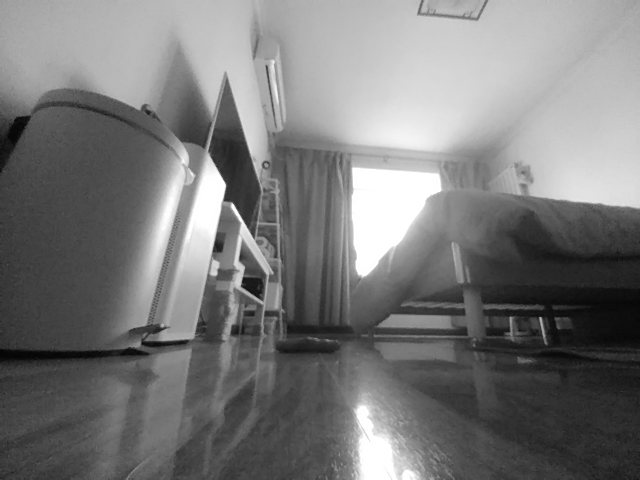carpet: (475, 341, 640, 368)
curtain: (274, 144, 354, 328)
pet feces: (274, 335, 344, 355)
